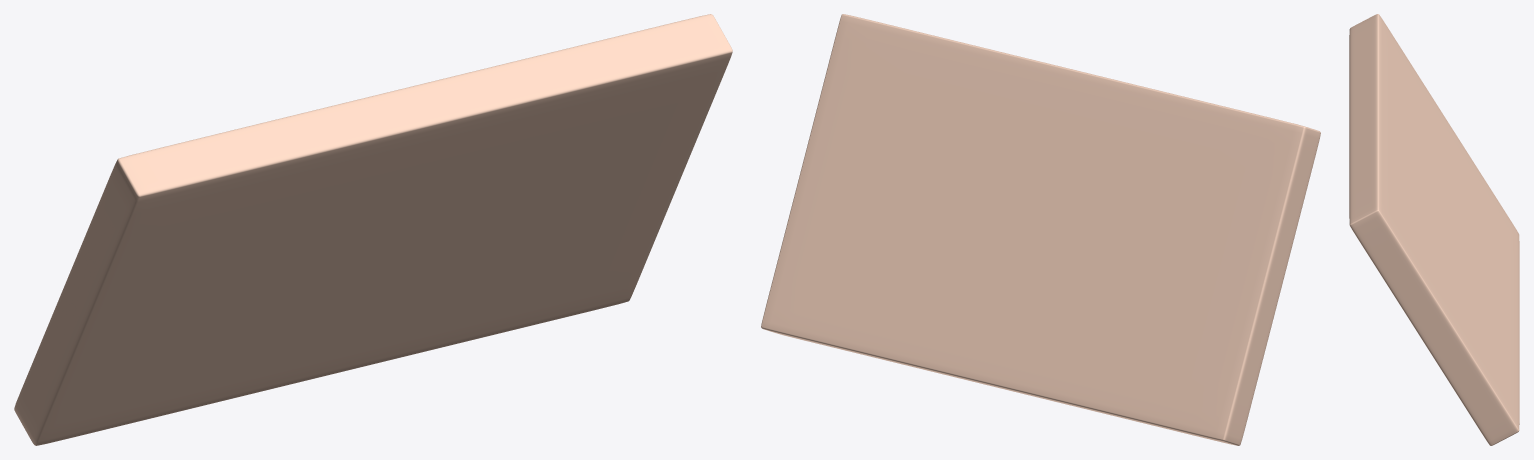
The model's file is control-panel.glb.
The picture shows the model from 3 angles, left to right: view 1: azimuth 30°, elevation 25°; view 2: azimuth 150°, elevation 25°; view 3: azimuth 270°, elevation 25°; orthographic projection. The views are drawn at different scales.
Visible parts, largest first — view 1: Control_Panel_geo; view 2: Control_Panel_geo; view 3: Control_Panel_geo.
Boxes of the visible parts, x1,y1,x2,y2 form: Control_Panel_geo: (14, 14, 732, 445); Control_Panel_geo: (761, 14, 1320, 445); Control_Panel_geo: (1349, 14, 1519, 445).
Size of the model in its own units: 1.65 by 0.92 by 0.5992.
